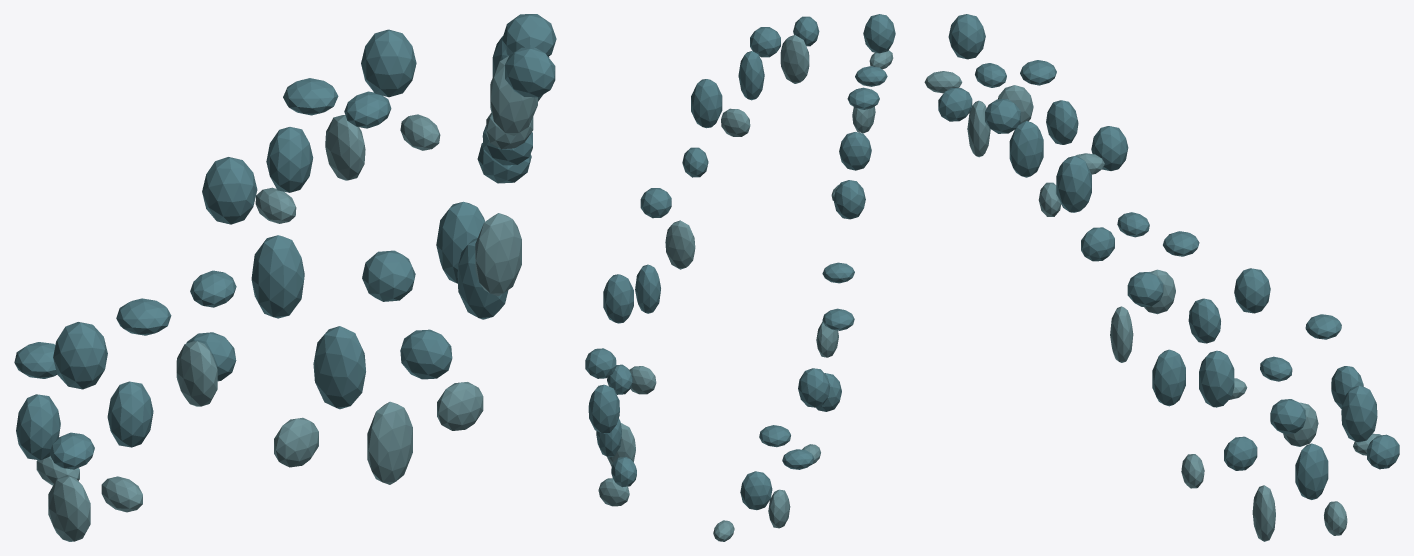
File: trench_shell.glb
3 renders of one model, left to right at view 1: azimuth 30°, elevation 25°; view 2: azimuth 150°, elevation 25°; view 3: azimuth 270°, elevation 25°, orthographic. The views are drawn at different scales.
Visible parts, largest first — view 1: trench_shell; view 2: trench_shell; view 3: trench_shell.
Part boxes in pixels (left/top/right/bottom): trench_shell: left=14, top=14, right=556, bottom=541; trench_shell: left=585, top=14, right=895, bottom=541; trench_shell: left=924, top=14, right=1399, bottom=541.
Bounding box in the file's own units: 91.88 × 148 × 138.
